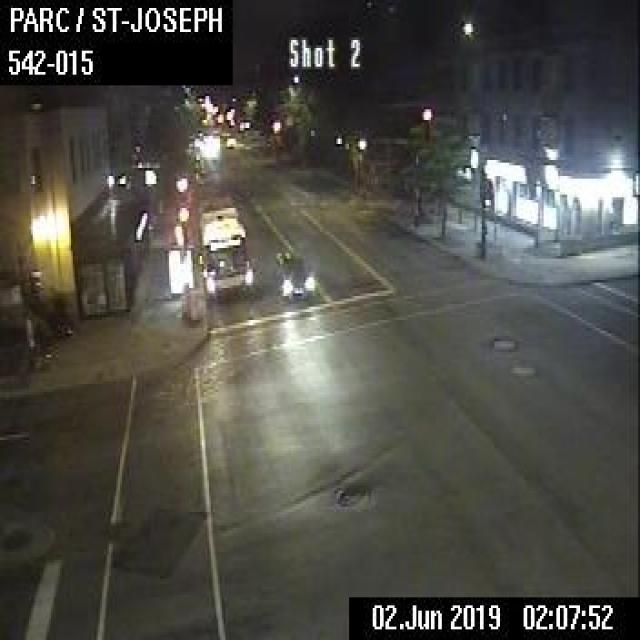bus: (196, 200, 251, 296)
construction: (180, 282, 190, 318), (188, 288, 198, 320)
vehicle: (275, 255, 315, 297), (225, 136, 235, 146)
